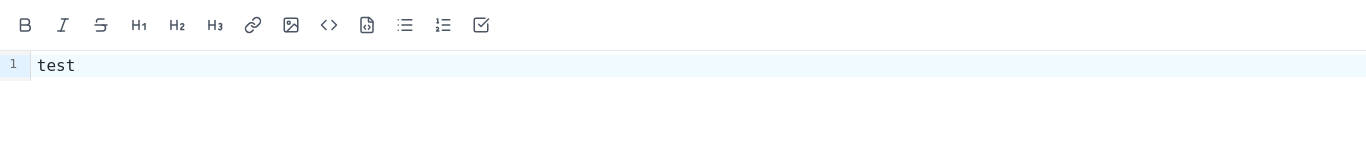
Test: EditorWithToolbar - Phase 2: 선택 영역 서식 & 토글 (통합) › 시나리오 3: 여러 서식 조합 › Bold → Italic → Code 순차 적용
The image size is (1366, 160).
//  Bold 클릭
Click the button named "굵게" at (25, 25), box x1=8 y1=8 x2=42 y2=42
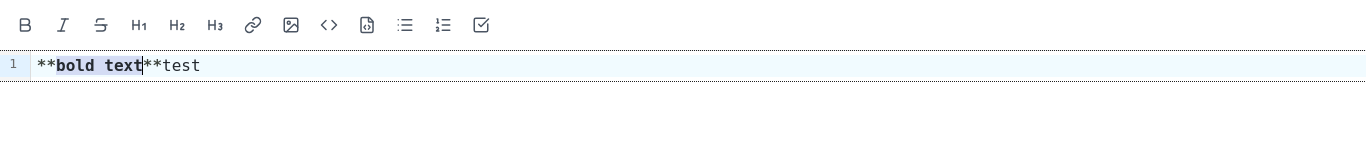
Expected: the text box labelled "**bold text**test" is shown, x1=31 y1=55 x2=1365 y2=77
// Italic 클릭
Click the button named "기울임" at (63, 25), box x1=46 y1=8 x2=80 y2=42
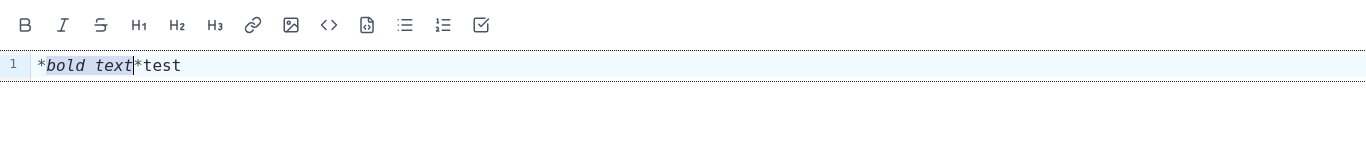
Expected: the text box labelled "*bold text*test" is shown, x1=31 y1=55 x2=1365 y2=77
//  Code 클릭
Click the button named "인라인 코드" at (329, 25), box x1=312 y1=8 x2=346 y2=42
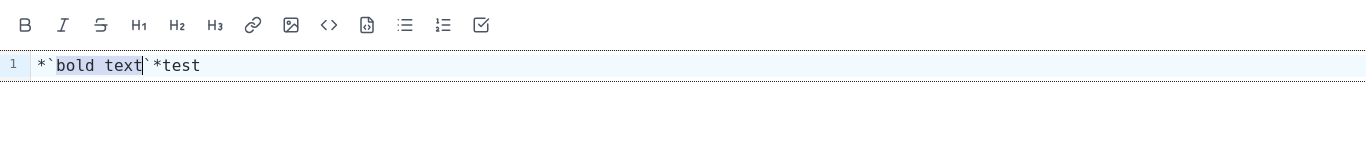
Expected: the text box labelled "*`bold text`*test" is shown, x1=31 y1=55 x2=1365 y2=77
